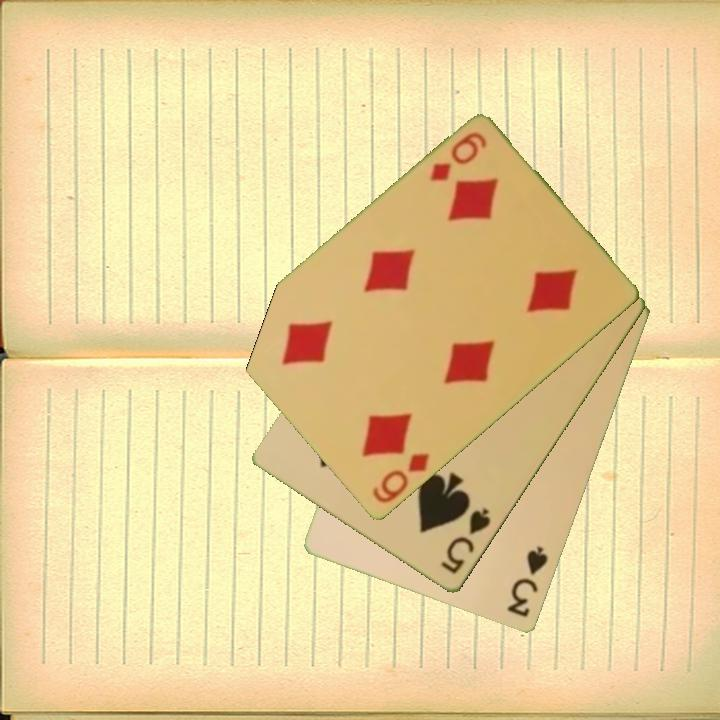3s: (504, 543, 552, 621)
5s: (437, 504, 494, 578)
6d: (369, 449, 433, 507), (426, 129, 490, 185)
